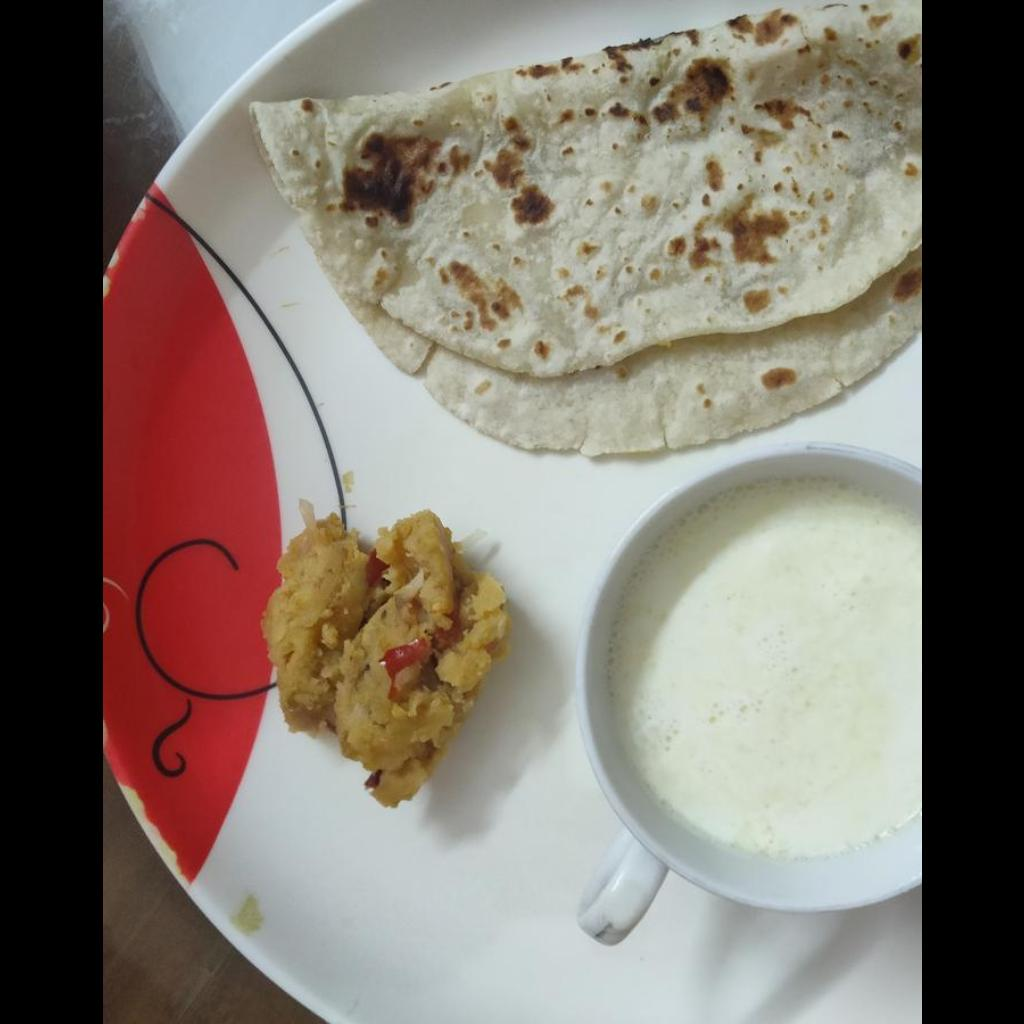milk: (600, 484, 920, 853)
potato-mashed: (261, 508, 513, 813)
ruti: (244, 0, 920, 459)
